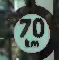Speed limit: (6, 3, 57, 58)
